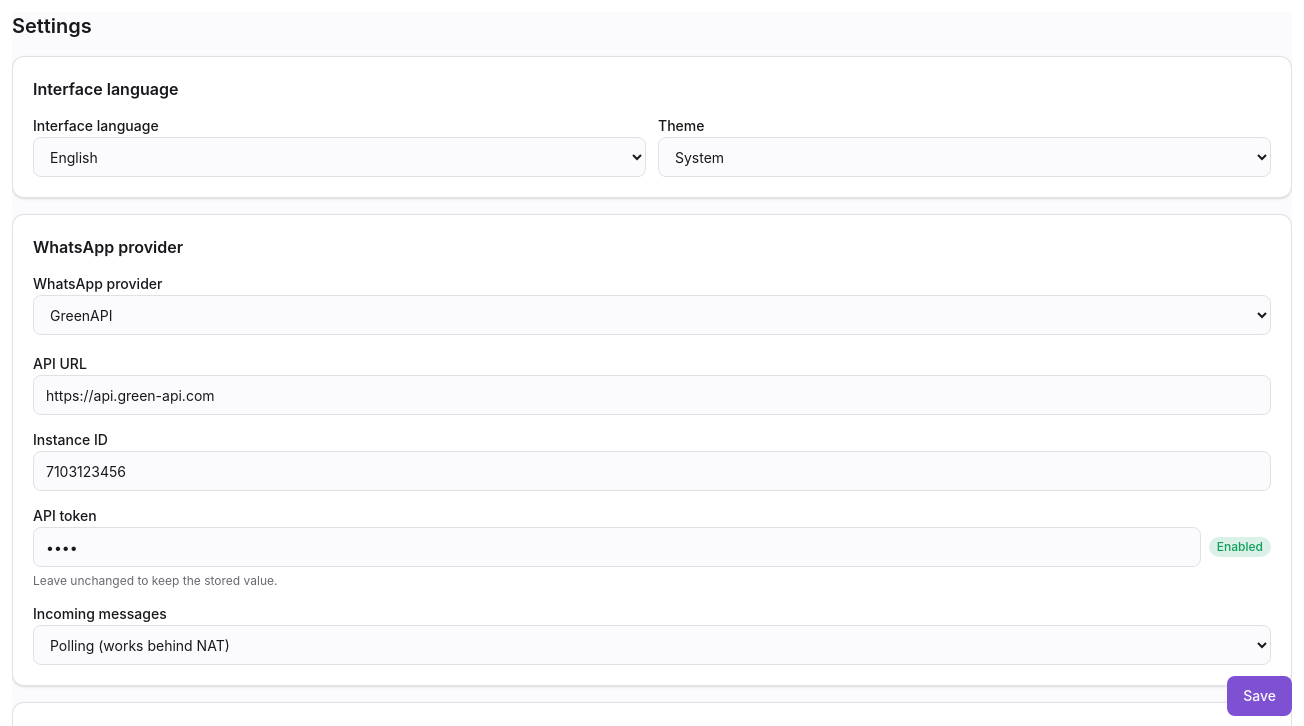
Scenario: feedback › reports a save
expect the field showing "••••" is shown: met, box [33,527,1201,567]
What coordinates should you click on to do the following:
click the button "Save"
I would click on:
 (1260, 696)
Its box is [1227,676,1292,716].
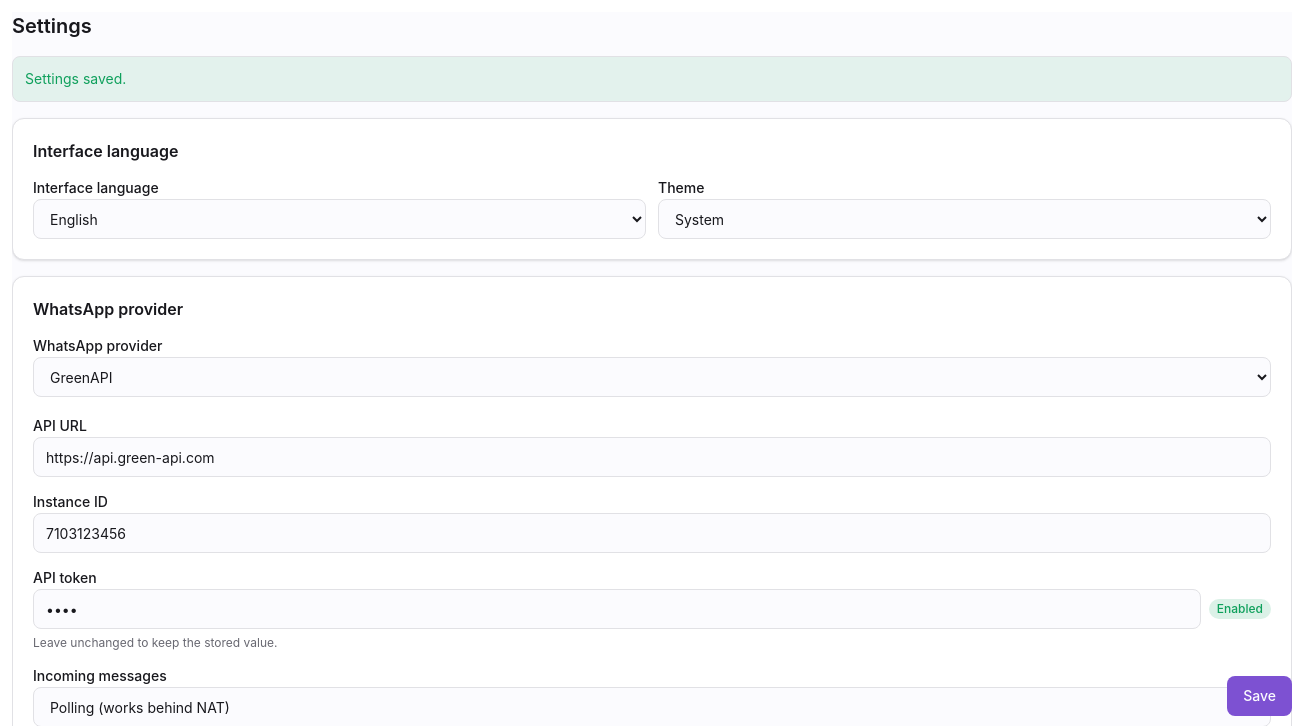
expect the text "Settings saved." is shown: met, box [12,56,1292,102]
